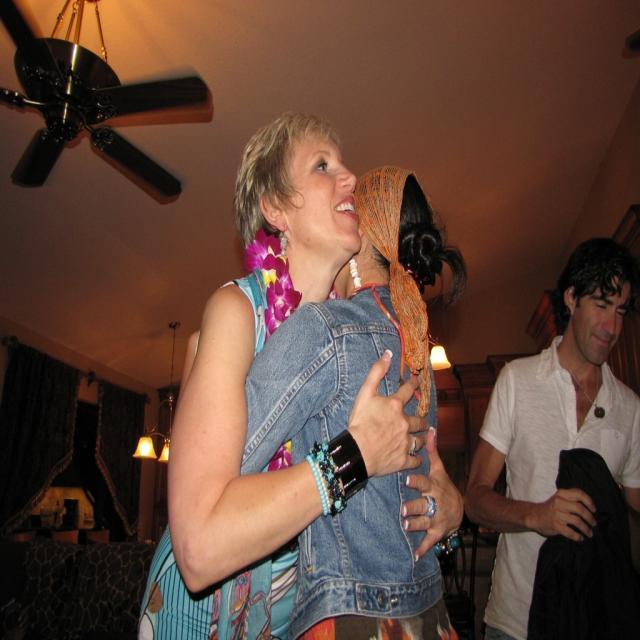fan_off: (0, 0, 216, 201)
